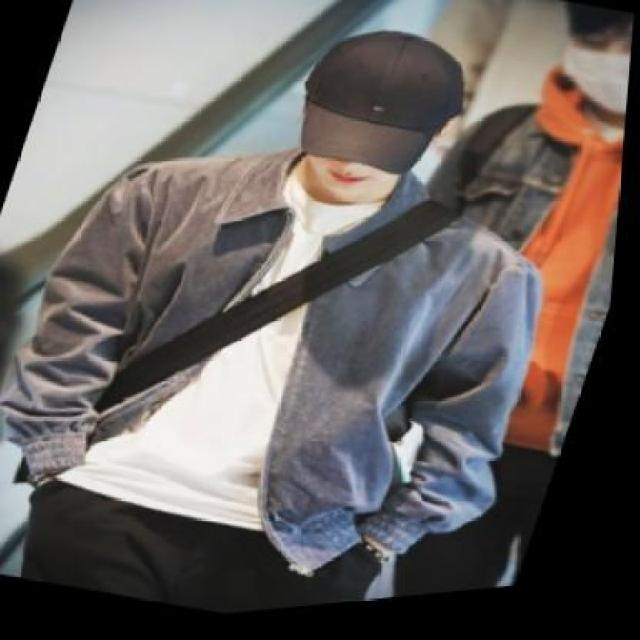hat: (271, 4, 492, 204)
